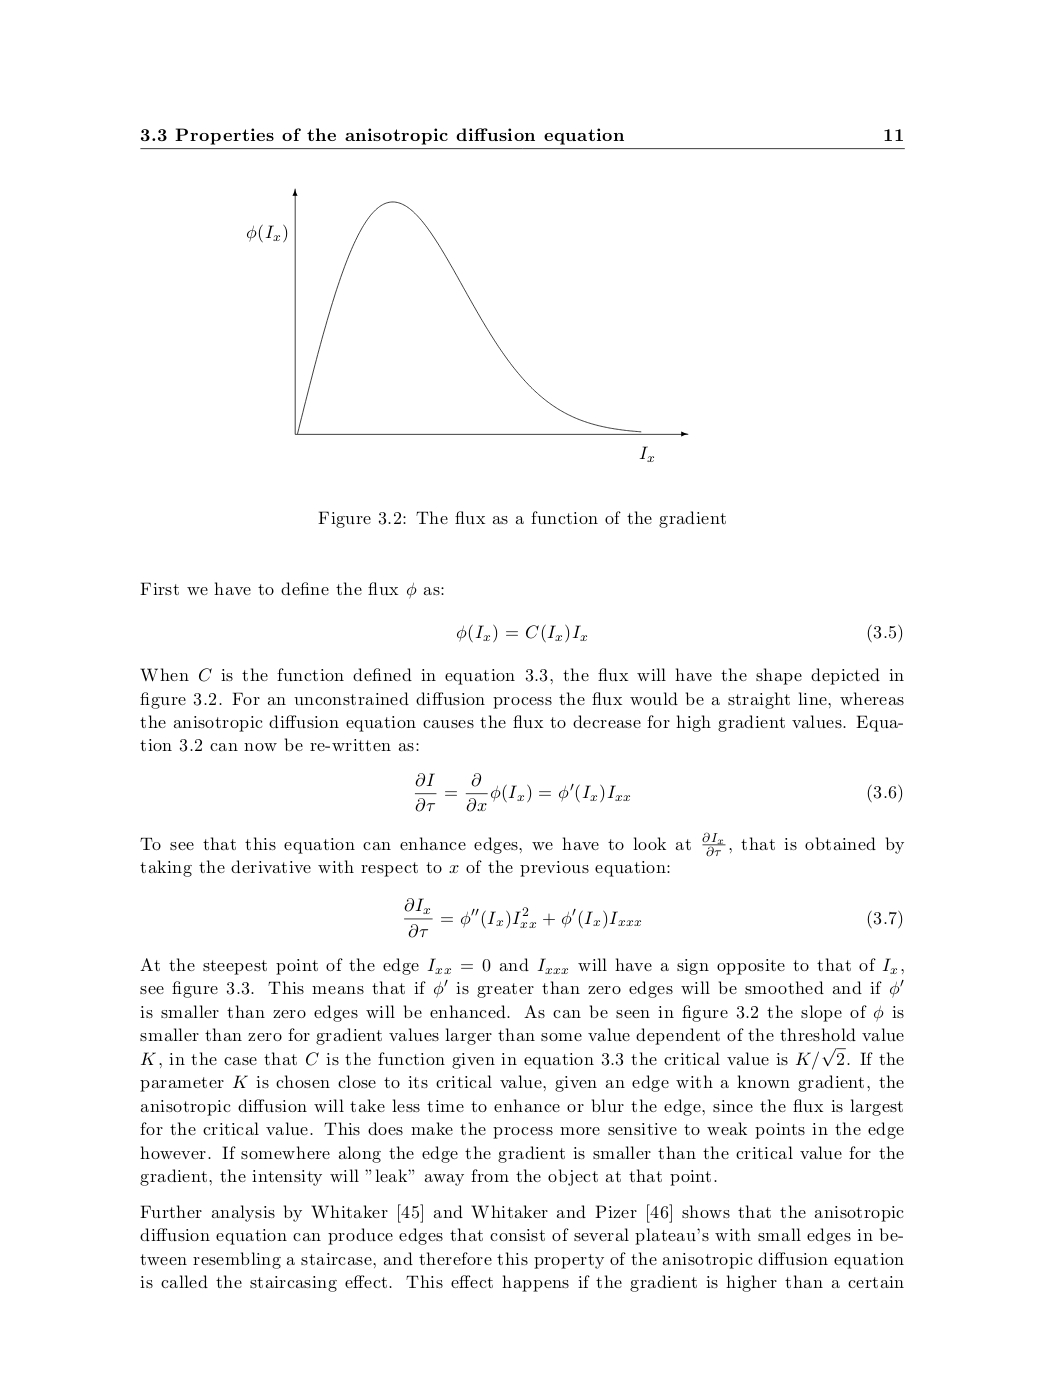figure: (247, 188, 688, 461)
formula: (403, 897, 902, 938), (415, 772, 902, 812), (457, 623, 902, 643)
